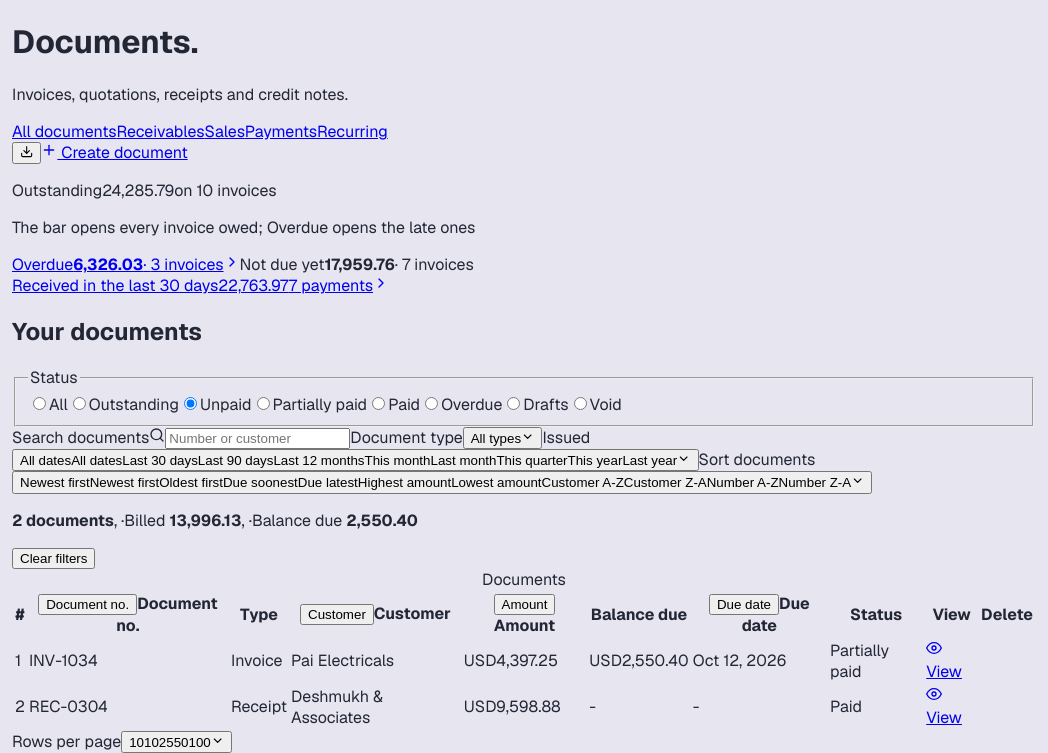
Test: dims old results while loading
Later steps or results of the test are not shown.
Expected: the table is shown, [12,569,1036,731]
Expected: the element showing "2 documents, ·Billed 13,996.13, ·Balance due 2,550.40" is shown, [12,510,418,531]
Click the radio button named "document-status". click: (79,403)
box: [73,397,86,410]
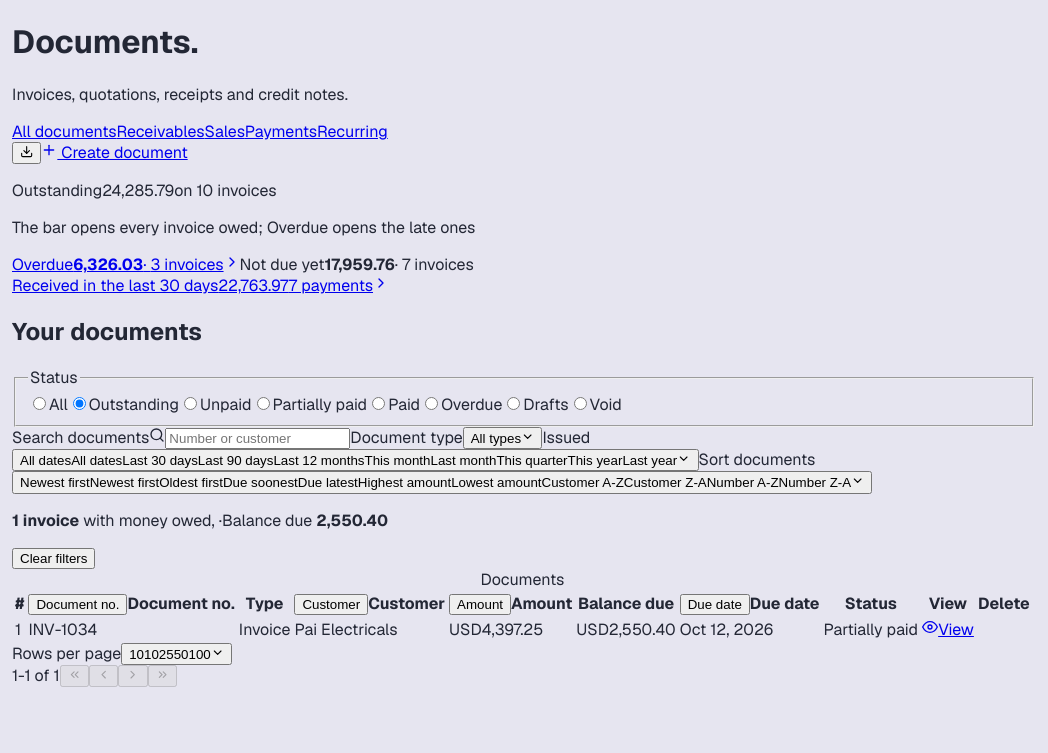
Result: the element showing "1 invoice with money owed, ·Balance due 2,550.40" is shown at [12,510,388,531]
